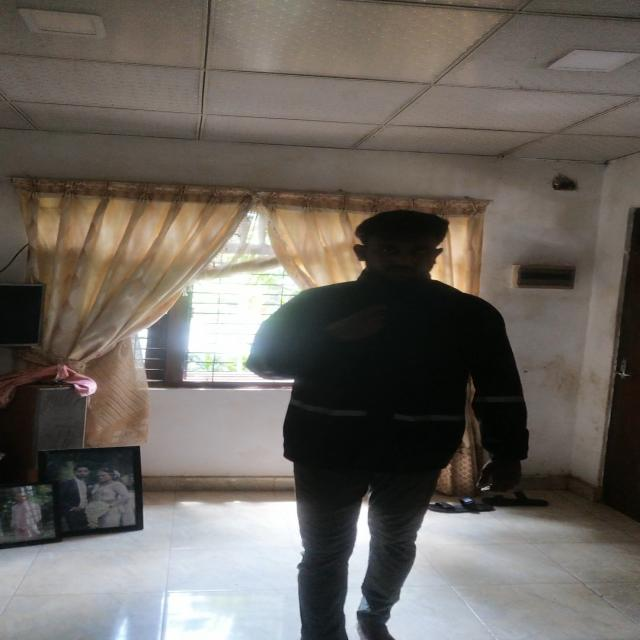Jacket_Wearer: (238, 273, 544, 474)
Person: (242, 198, 534, 640)
